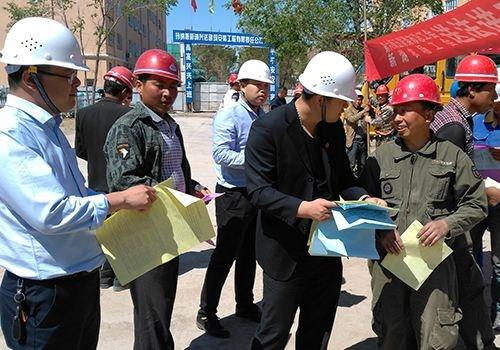Helmet: (297, 50, 357, 120), (237, 57, 274, 108)
